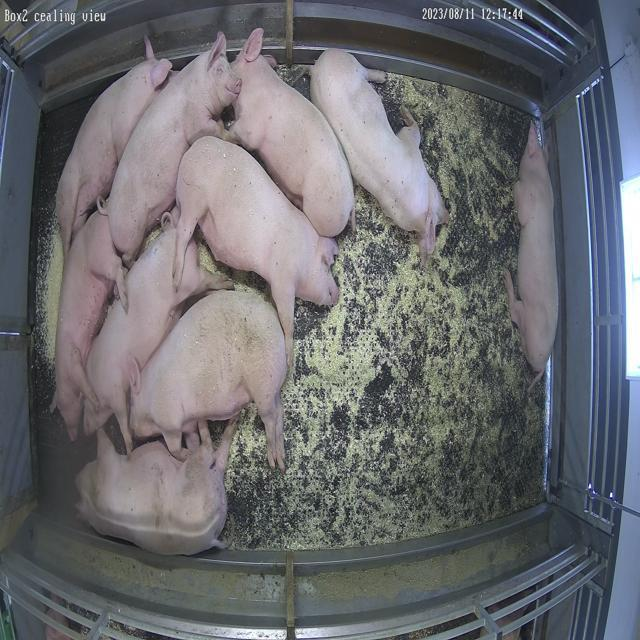Pig: (175, 136, 339, 366), (84, 213, 232, 450), (107, 32, 241, 266), (312, 48, 449, 258), (129, 292, 287, 472), (229, 28, 355, 236), (55, 36, 172, 254), (76, 420, 236, 556), (53, 210, 126, 440), (506, 124, 560, 380)
